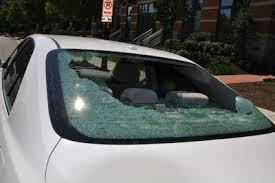Rear-windscreen-Damage: (36, 45, 250, 154)
